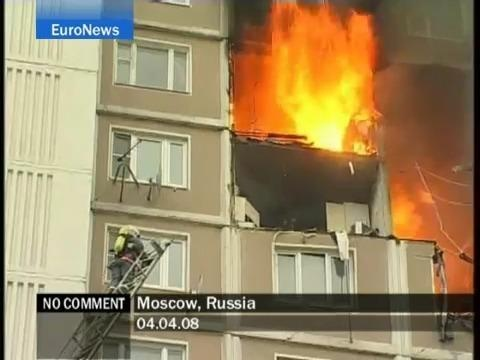fire: (236, 4, 384, 170), (386, 163, 455, 245)
smoke: (387, 45, 471, 157)
